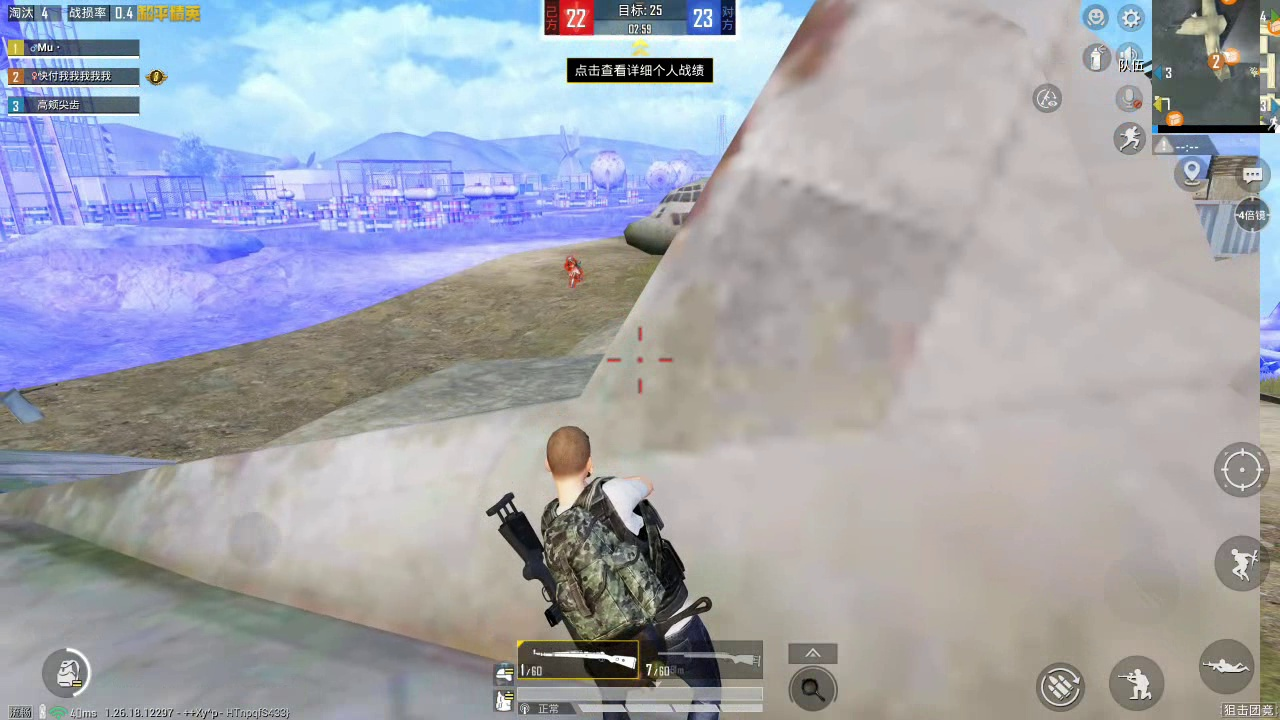enemy: (565, 254, 583, 289)
